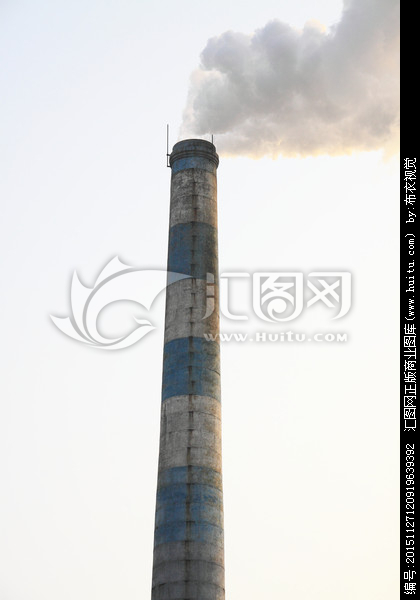dust: (162, 7, 390, 179)
